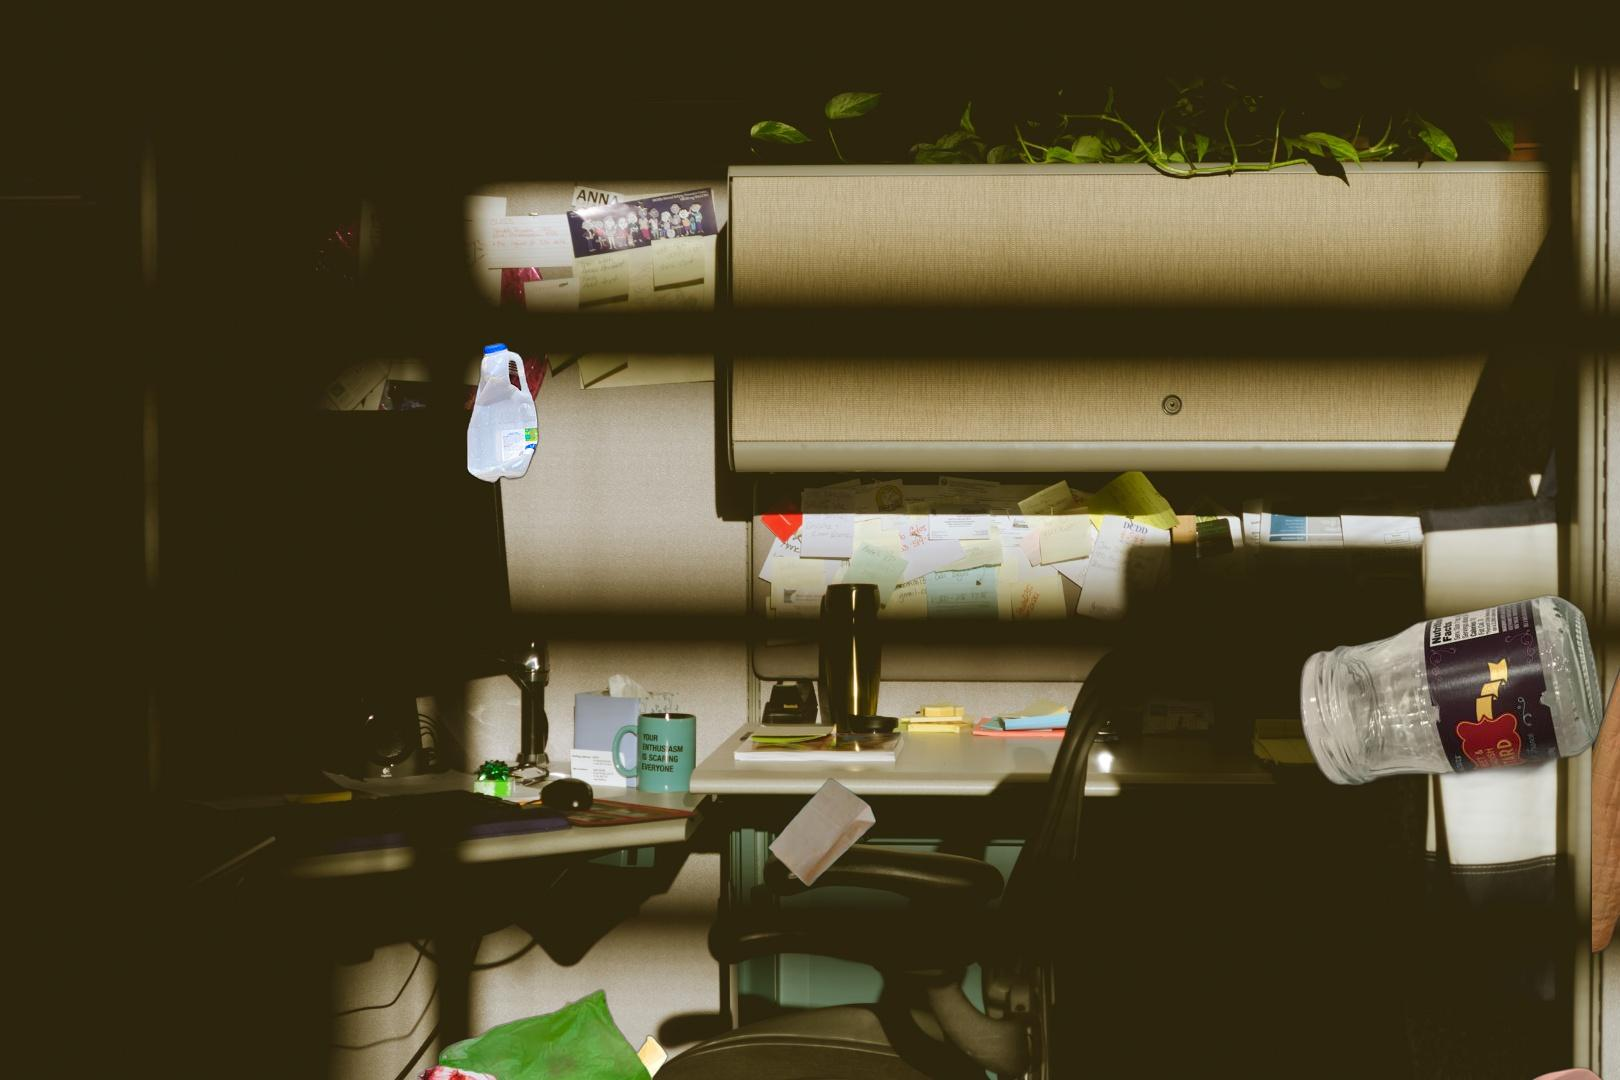clothes: (1592, 538, 1620, 1009)
glass: (1295, 593, 1608, 802)
metal-cans: (1425, 1064, 1620, 1080)
paper-bag: (765, 776, 877, 890)
plastic-bag: (401, 987, 669, 1080)
plastic-bottles: (462, 336, 542, 489)
